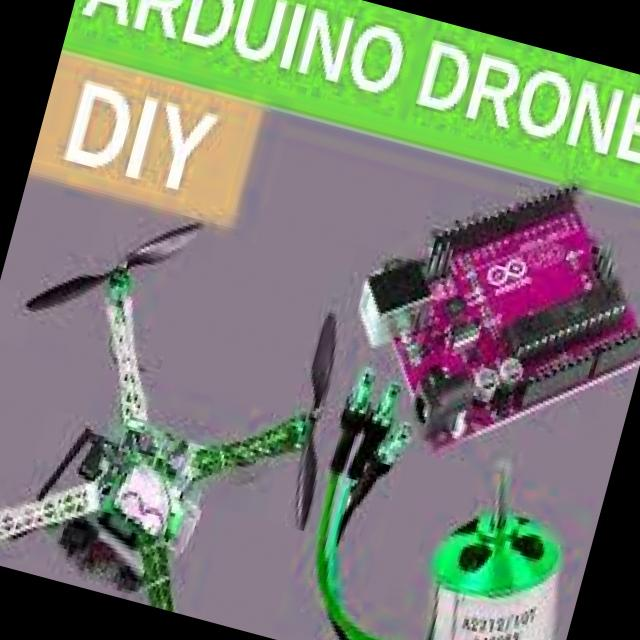drone: (0, 180, 380, 640)
